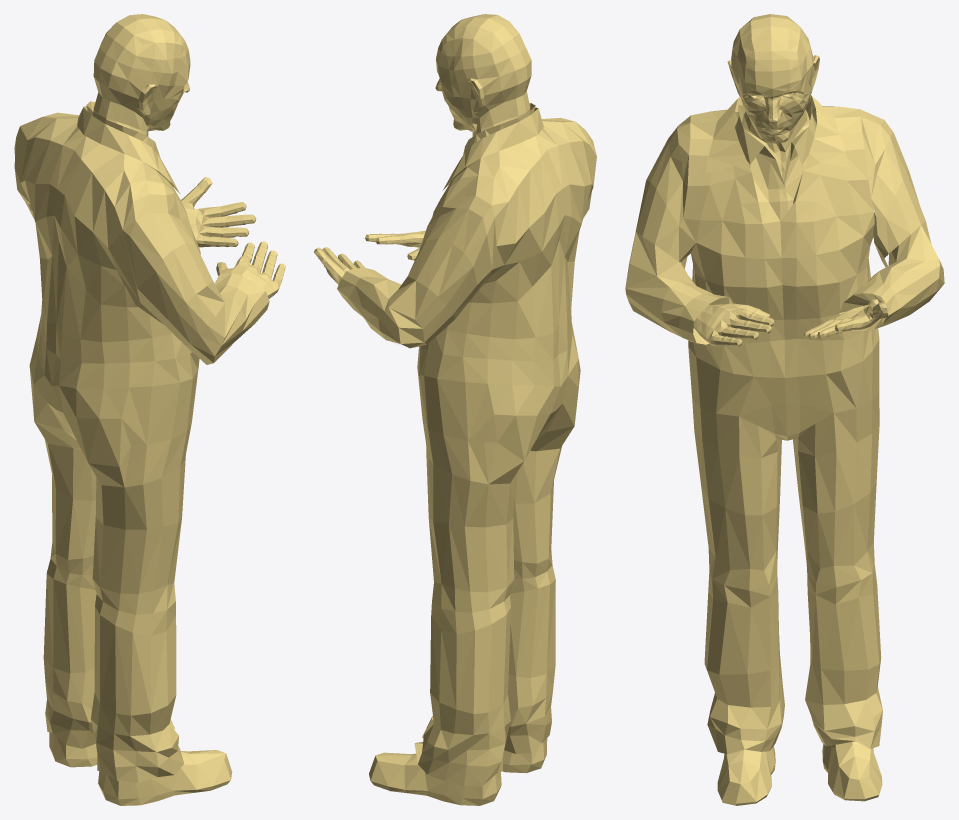
File: worker_candidate_2.glb
3 views of the same model, side by side, from view 1: azimuth 30°, elevation 25°; view 2: azimuth 150°, elevation 25°; view 3: azimuth 270°, elevation 25° (orthographic). The views are drawn at different scales.
Visible parts, largest first — view 1: world; view 2: world; view 3: world.
Boxes of the visible parts, <box> form: world: <box>14,14,285,805</box>; world: <box>314,14,596,805</box>; world: <box>625,14,944,805</box>.
Bounding box in the file's own units: 0.5506 × 1.79 × 0.6847.
